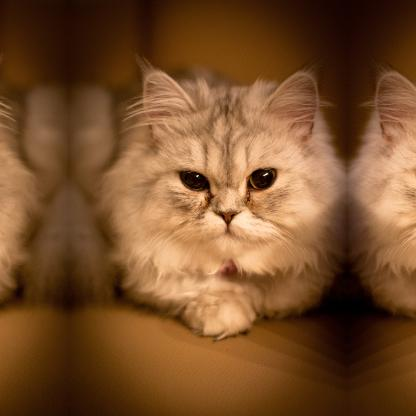Cat: (68, 58, 346, 342), (0, 58, 69, 343), (346, 58, 415, 343)
